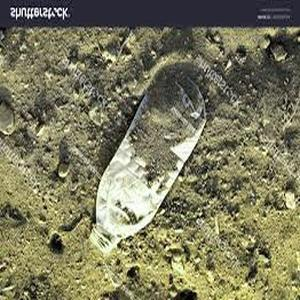Plastic: (89, 64, 214, 262)
